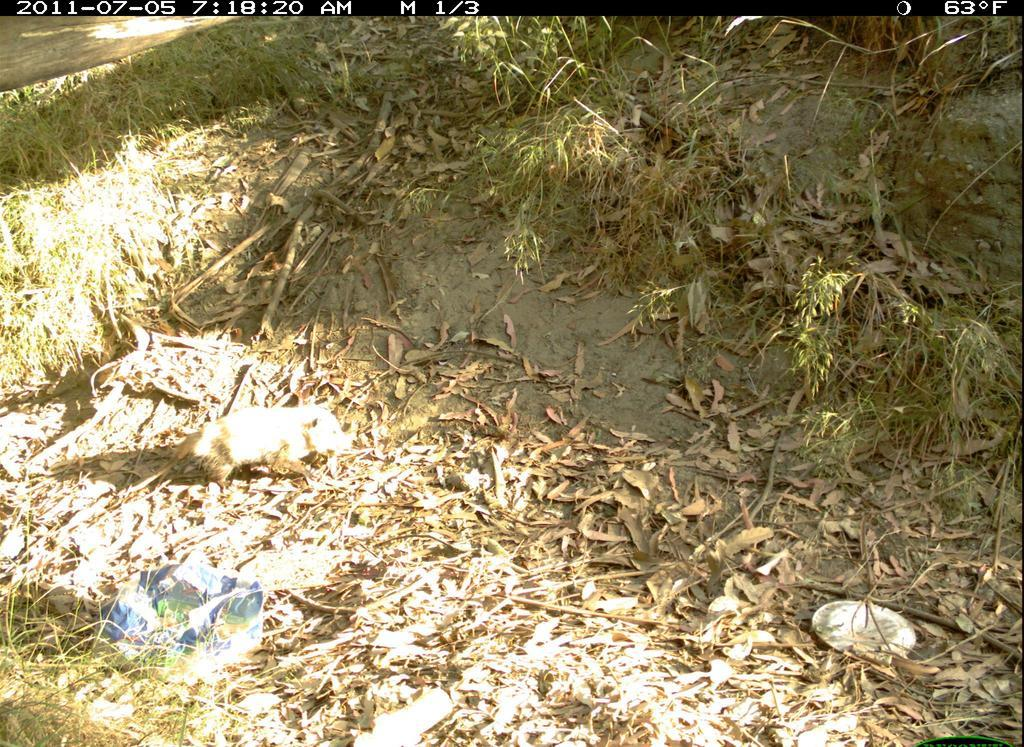opossum: (112, 390, 351, 507)
